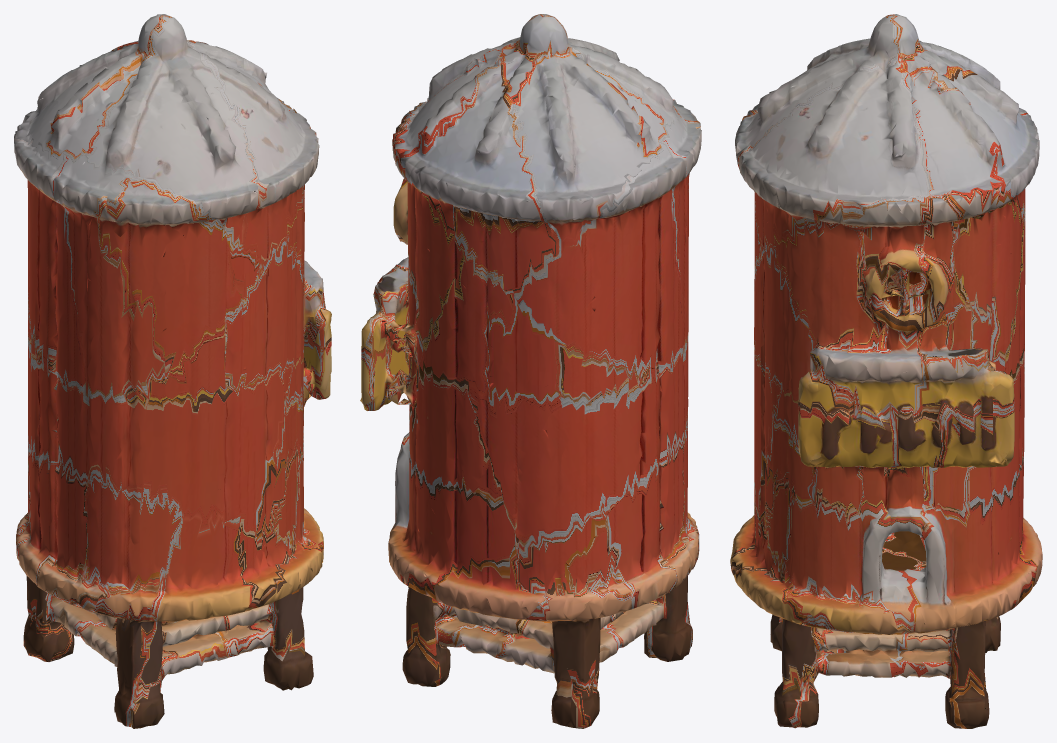
File: صومعة_حبوب.glb
3 renders of one model, left to right at view 1: azimuth 30°, elevation 25°; view 2: azimuth 150°, elevation 25°; view 3: azimuth 270°, elevation 25°, orthographic. The views are drawn at different scales.
Visible parts, largest first — view 1: tripo_node_4670778d-05d3-4518-be91-b1f250deafbb; view 2: tripo_node_4670778d-05d3-4518-be91-b1f250deafbb; view 3: tripo_node_4670778d-05d3-4518-be91-b1f250deafbb.
Part boxes in pixels (box(x1,y1,x2,y2)): tripo_node_4670778d-05d3-4518-be91-b1f250deafbb: box(14, 14, 331, 728); tripo_node_4670778d-05d3-4518-be91-b1f250deafbb: box(360, 14, 701, 728); tripo_node_4670778d-05d3-4518-be91-b1f250deafbb: box(730, 14, 1042, 728).
Bounding box in the file's own units: 0.4276 × 0.9999 × 0.4248.
Materials: 1 (1 with a texture image).
